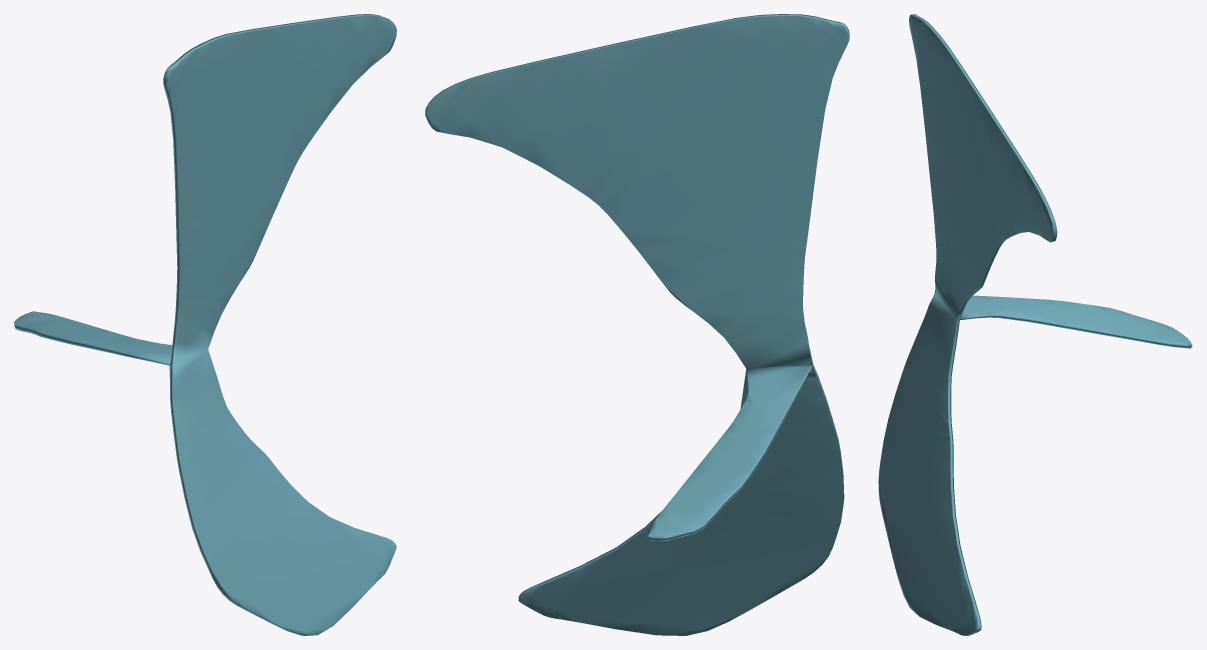
3 renders of one model, left to right at view 1: azimuth 30°, elevation 25°; view 2: azimuth 150°, elevation 25°; view 3: azimuth 270°, elevation 25°, orthographic. The views are drawn at different scales.
Visible parts, largest first — view 1: 左侧三放射软骨; view 2: 左侧三放射软骨; view 3: 左侧三放射软骨.
Boxes of the visible parts, x1,y1,x2,y2 form: 左侧三放射软骨: [14, 14, 396, 635]; 左侧三放射软骨: [425, 14, 849, 635]; 左侧三放射软骨: [878, 14, 1192, 635].
Size of the model in its own units: 0.0557 by 0.0999 by 0.053.
